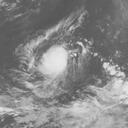cyclone: (23, 29, 89, 97)
